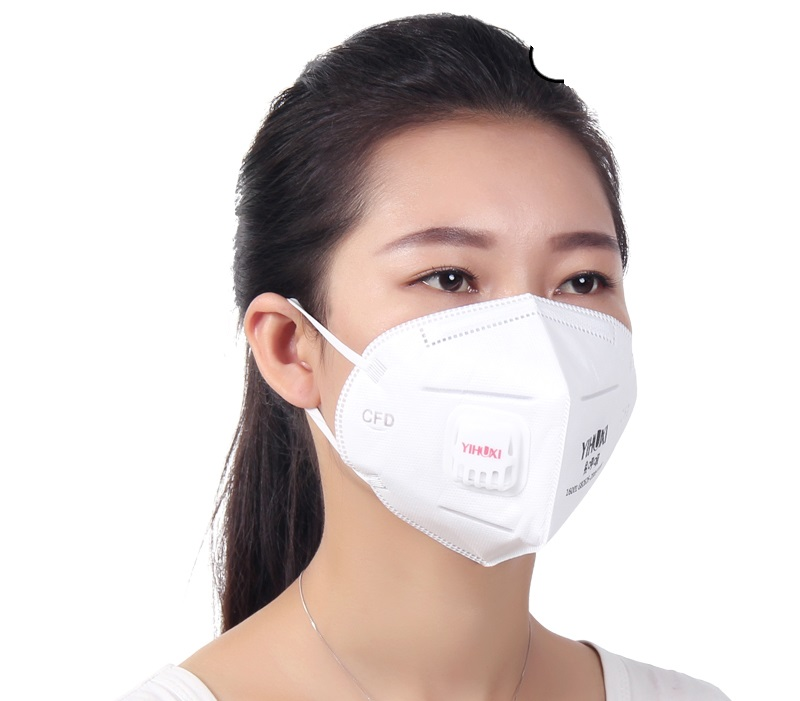face_mask: (326, 125, 631, 513)
